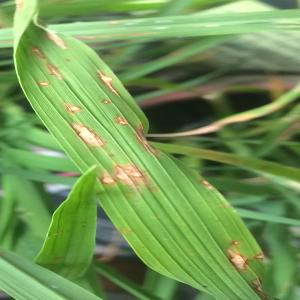1 RiceBlast: (62, 116, 104, 151), (89, 63, 122, 99), (223, 237, 252, 272), (38, 25, 72, 49), (58, 94, 87, 122), (104, 104, 130, 132), (43, 56, 67, 81), (90, 90, 116, 113), (96, 167, 114, 195), (127, 162, 149, 184), (33, 74, 58, 93), (29, 40, 49, 60), (113, 164, 130, 184)
